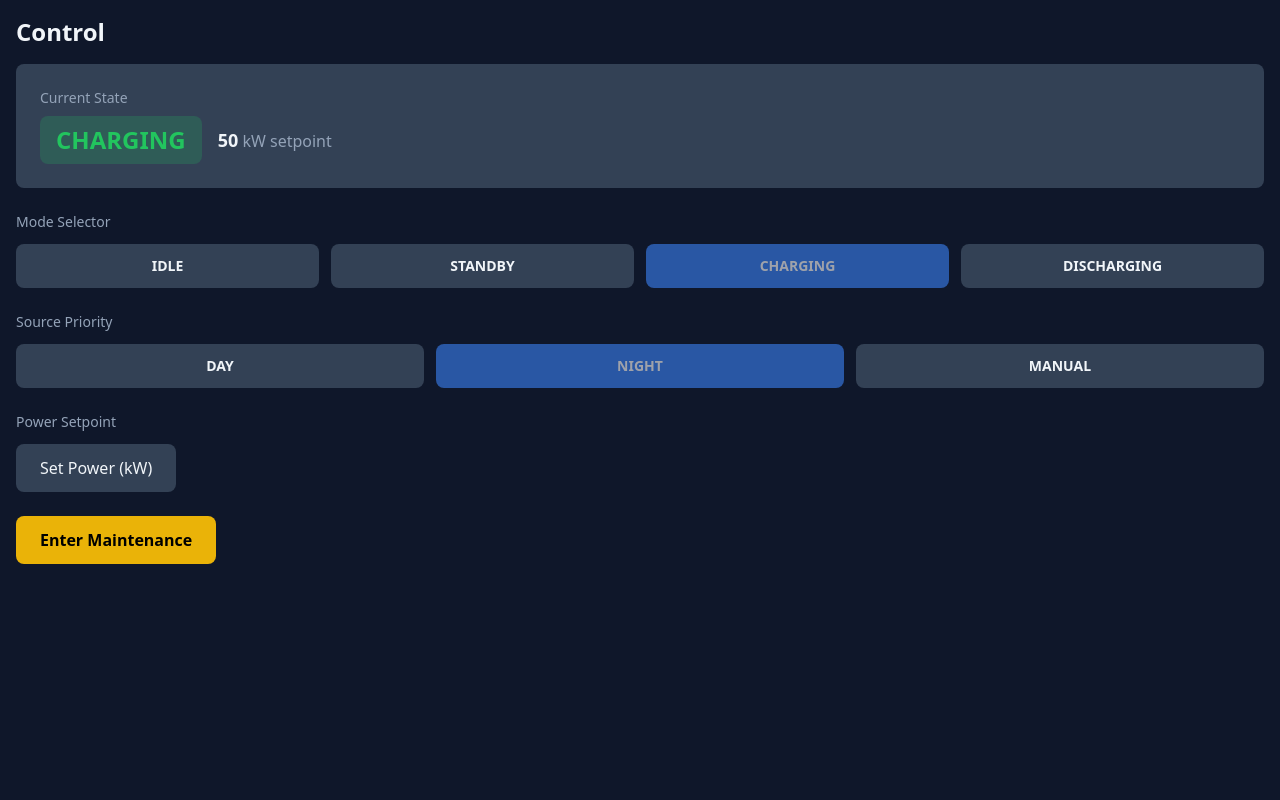
Test: ControlScreen › clicking mode button opens confirm dialog
Click the button with test id "mode-btn-STANDBY" at [482, 266], box 331,244 -> 634,288
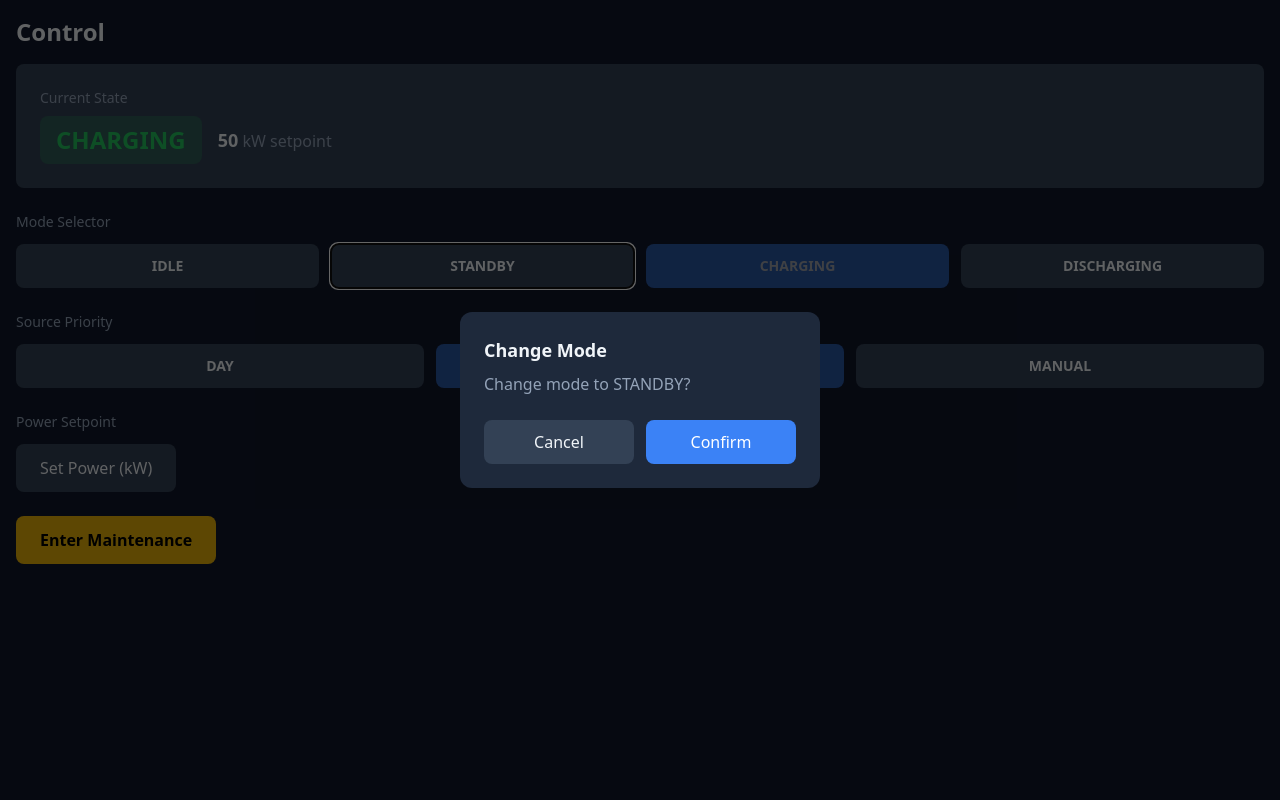
Now the element with test id "confirm-dialog" is shown
Now the text "Change mode to STANDBY?" is shown, box 484,373 -> 690,395
